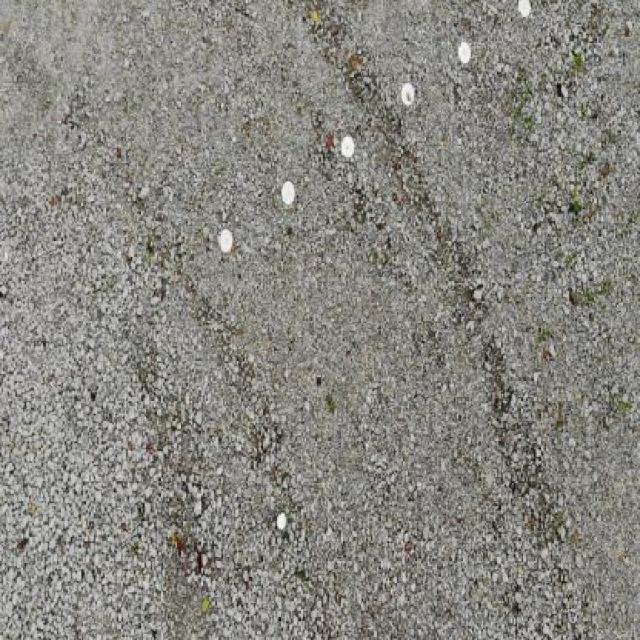Garbage: (277, 510, 286, 532)
